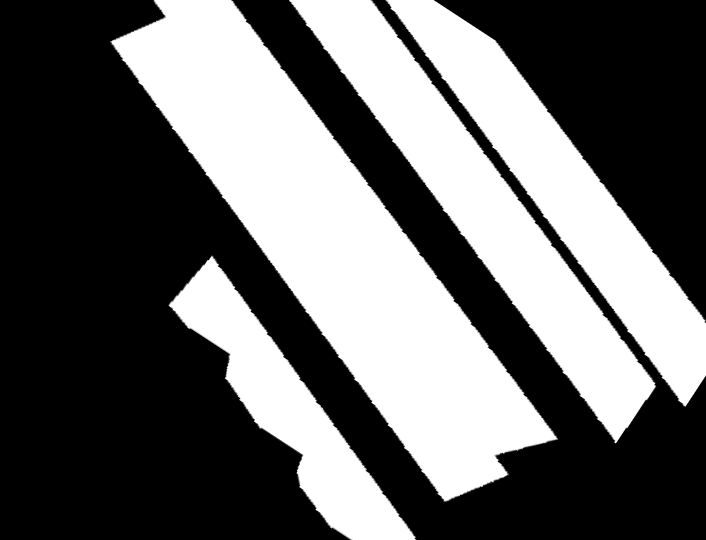parkingspot: (111, 0, 558, 501), (289, 0, 656, 443), (386, 0, 706, 406), (169, 256, 416, 540)
